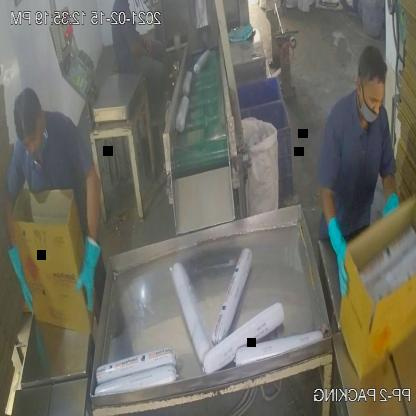glove: (67, 219, 113, 323), (322, 212, 356, 300), (7, 228, 37, 324)
